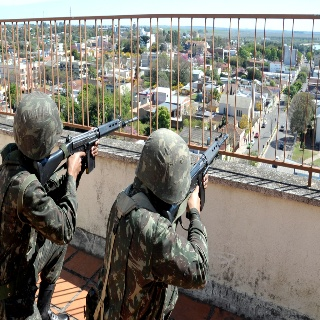rifle: (34, 113, 138, 179), (161, 133, 230, 226)
